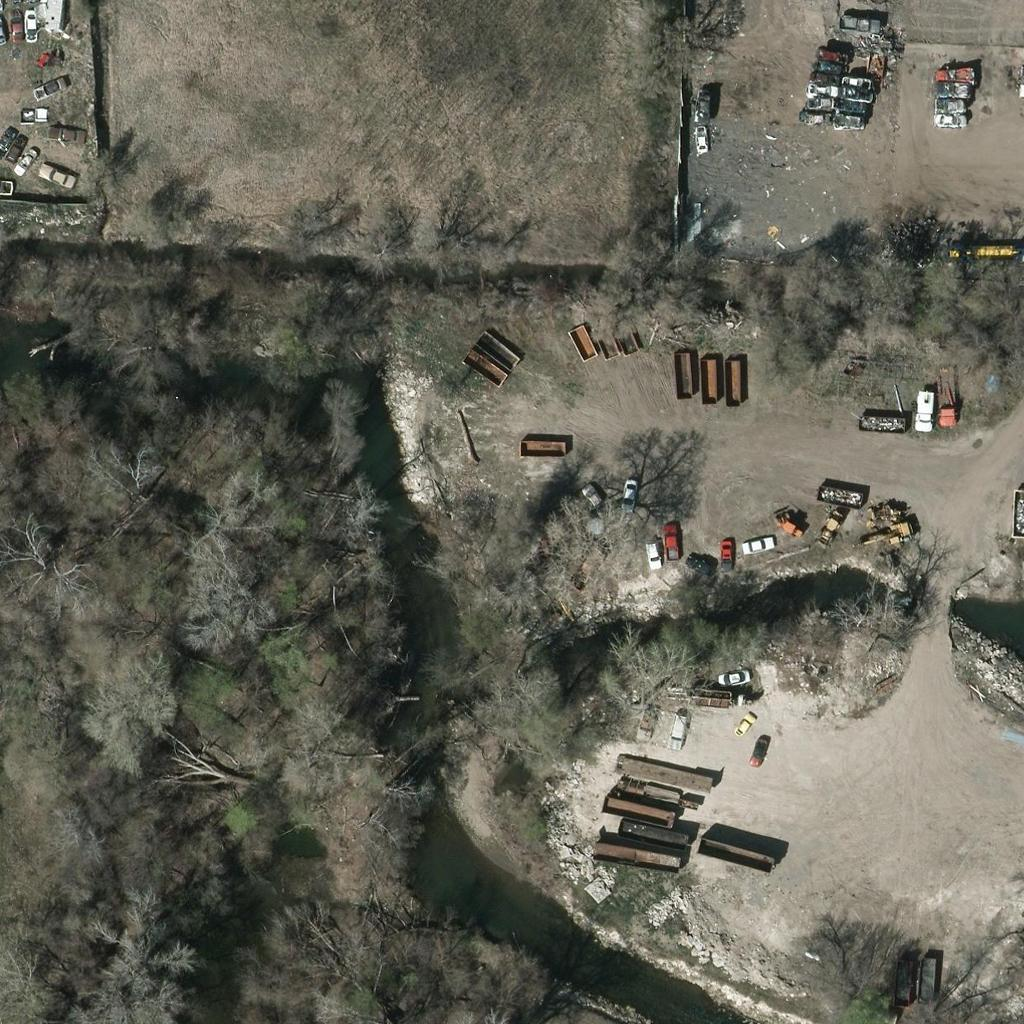car: (13, 5, 47, 39), (846, 7, 880, 41), (32, 69, 66, 103), (686, 88, 720, 122), (930, 101, 964, 135), (52, 117, 86, 151), (684, 122, 718, 156), (8, 144, 42, 178), (41, 158, 75, 192), (907, 399, 941, 433), (611, 476, 645, 510), (576, 480, 610, 514), (654, 521, 688, 555), (738, 528, 772, 562), (634, 536, 668, 570), (709, 536, 743, 570), (718, 661, 752, 695), (629, 704, 663, 738), (727, 707, 761, 741), (660, 714, 694, 748), (740, 735, 774, 769), (0, 133, 29, 167), (0, 127, 22, 161), (0, 13, 18, 47)
